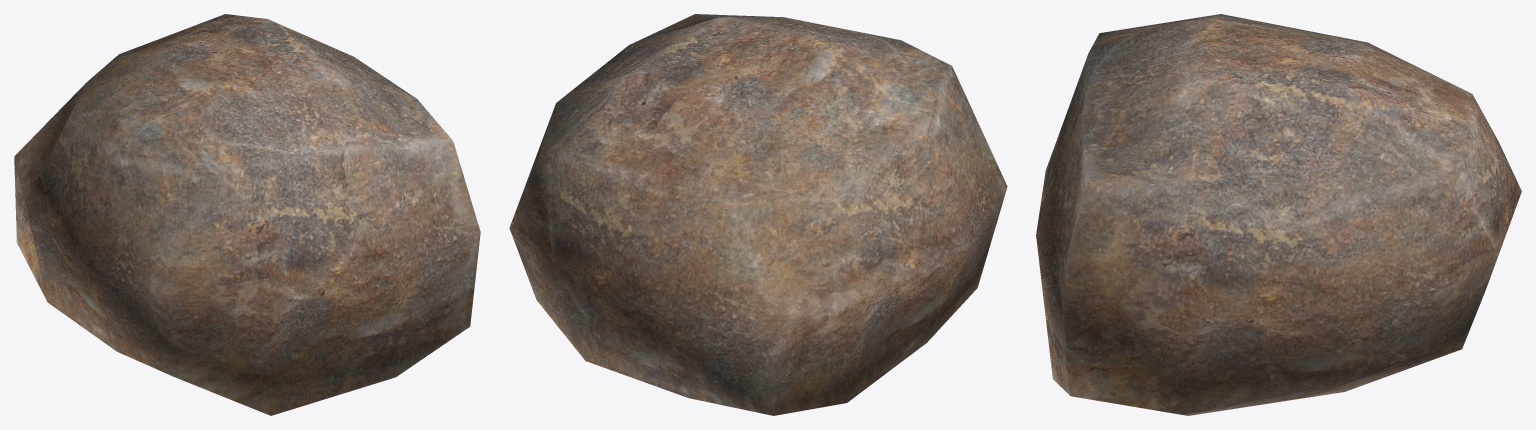
Rendered from astroid5.glb.
3 views of the same model, side by side, from view 1: azimuth 30°, elevation 25°; view 2: azimuth 150°, elevation 25°; view 3: azimuth 270°, elevation 25° (orthographic). The views are drawn at different scales.
Parts seen in each view (by area): view 1: Rock - River Stone Low-poly.003; view 2: Rock - River Stone Low-poly.003; view 3: Rock - River Stone Low-poly.003.
Boxes of the visible parts, x1,y1,x2,y2 form: Rock - River Stone Low-poly.003: [14, 14, 480, 415]; Rock - River Stone Low-poly.003: [509, 14, 1007, 415]; Rock - River Stone Low-poly.003: [1036, 14, 1521, 415].
Bounding box in the file's own units: 0.242 × 0.1897 × 0.2528.
1 material, 1 textured.
